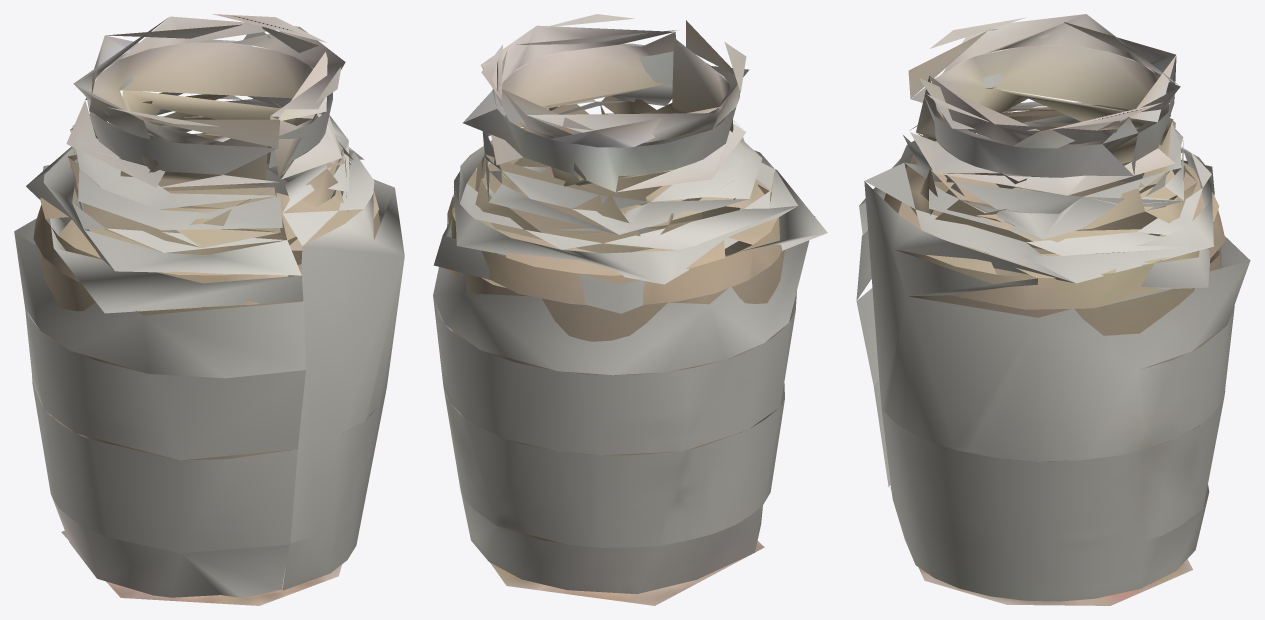
The model's file is vase-round-lightweight-9baf0ac206.glb.
The picture shows the model from 3 angles, left to right: view 1: azimuth 30°, elevation 25°; view 2: azimuth 150°, elevation 25°; view 3: azimuth 270°, elevation 25°; orthographic projection.
Visible parts, largest first — view 1: ceramic_vase_02; view 2: ceramic_vase_02; view 3: ceramic_vase_02.
Part boxes in pixels (left/top/right/bottom): ceramic_vase_02: left=14, top=14, right=404, bottom=605; ceramic_vase_02: left=433, top=14, right=827, bottom=605; ceramic_vase_02: left=856, top=14, right=1250, bottom=605.
Size of the model in its own units: 0.222 by 0.3088 by 0.2296.
Materials: 1 (1 with a texture image).
